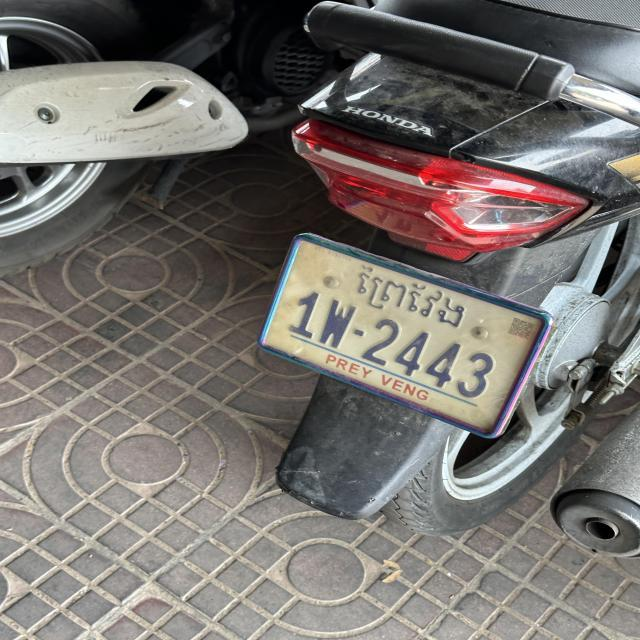Prey_Veng: (355, 264, 467, 328)
